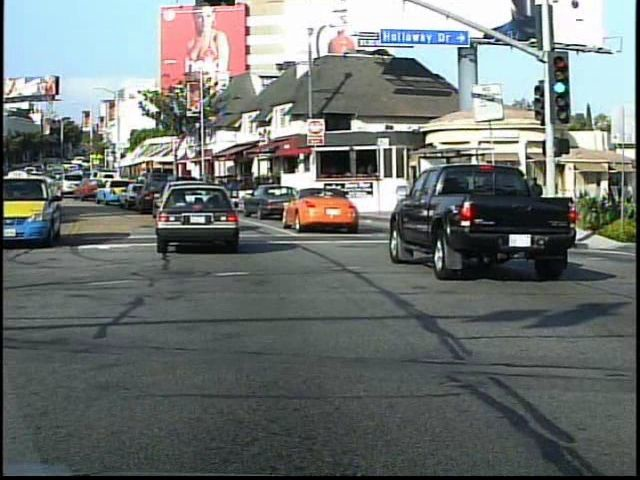person: (600, 178, 622, 258)
